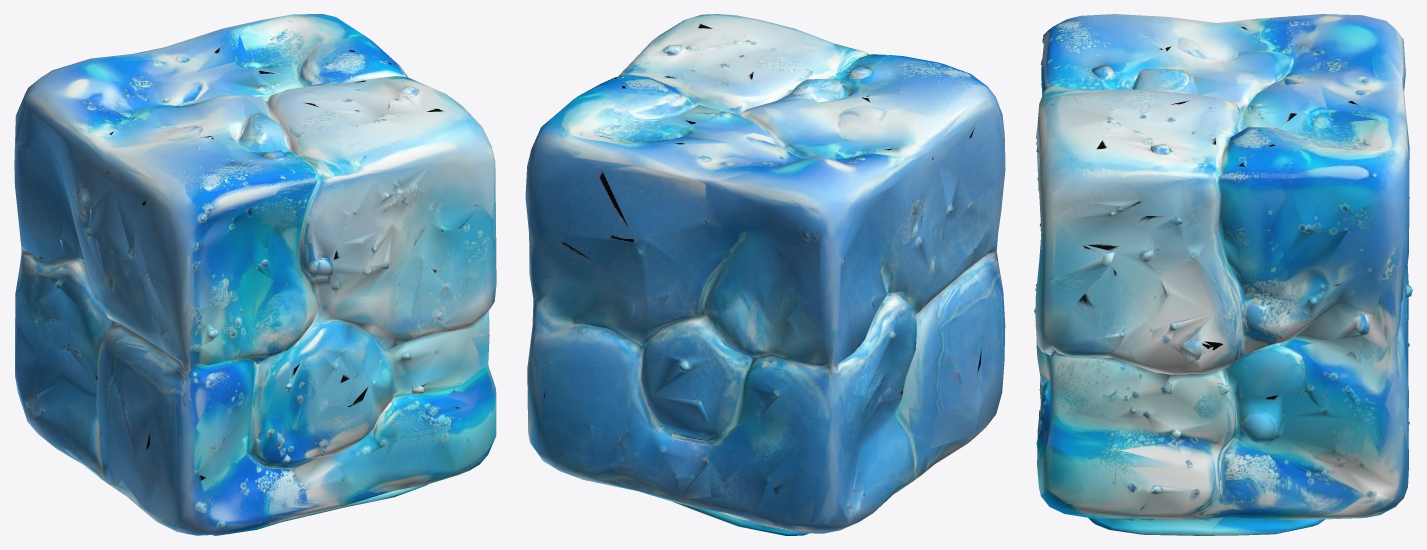
Rendered from buz_kup_2.glb.
3 views of the same model, side by side, from view 1: azimuth 30°, elevation 25°; view 2: azimuth 150°, elevation 25°; view 3: azimuth 270°, elevation 25° (orthographic). The views are drawn at different scales.
Parts seen in each view (by area): view 1: tripo_node_233fe0d1-993b-48df-8c99-7d475dff2f1f; view 2: tripo_node_233fe0d1-993b-48df-8c99-7d475dff2f1f; view 3: tripo_node_233fe0d1-993b-48df-8c99-7d475dff2f1f.
Part boxes in pixels (left/top/right/bottom): tripo_node_233fe0d1-993b-48df-8c99-7d475dff2f1f: left=14, top=14, right=496, bottom=535; tripo_node_233fe0d1-993b-48df-8c99-7d475dff2f1f: left=525, top=14, right=1005, bottom=535; tripo_node_233fe0d1-993b-48df-8c99-7d475dff2f1f: left=1034, top=14, right=1412, bottom=535.
Size of the model in its own units: 0.9151 by 0.9812 by 0.8726.
1 material, 1 textured.
